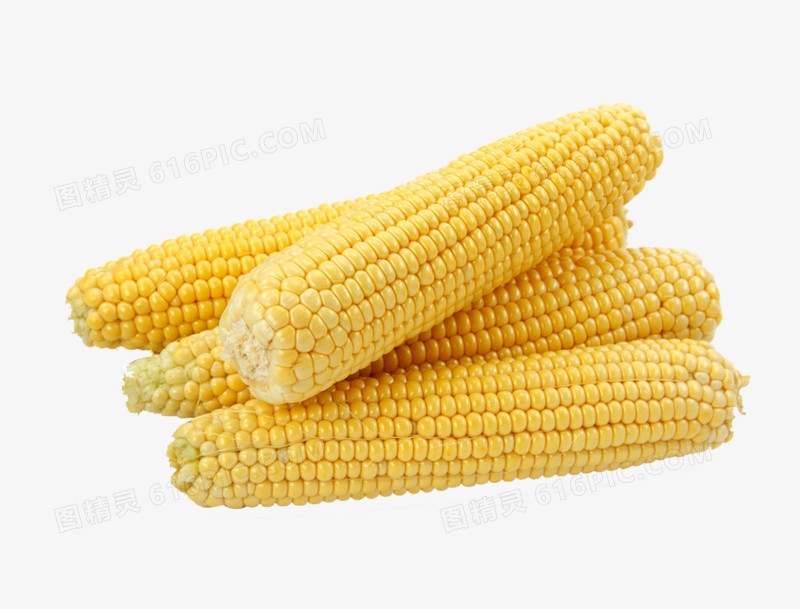corn: (243, 108, 653, 389), (61, 149, 636, 349), (125, 243, 723, 416), (188, 336, 743, 510)
